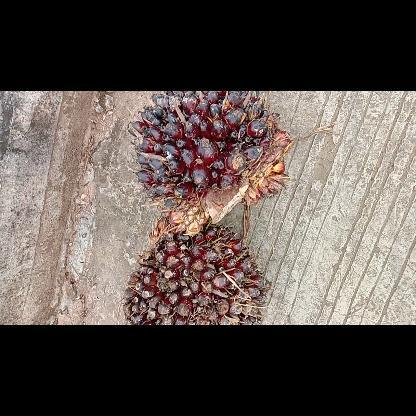TBS mentah: (124, 91, 296, 239), (120, 220, 272, 324)
